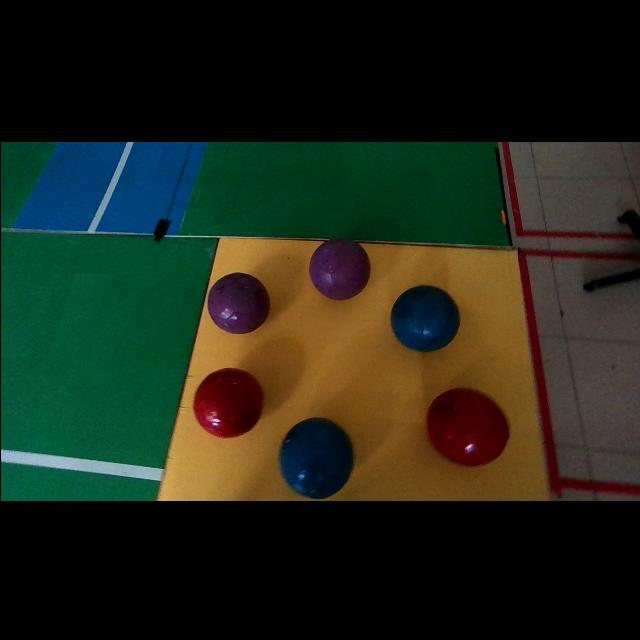B: (279, 416, 352, 497), (390, 284, 459, 350)
P: (308, 237, 369, 298), (208, 271, 269, 331)
R: (426, 387, 508, 464), (192, 366, 261, 436)
